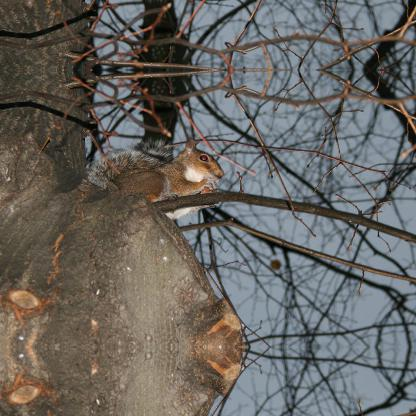Squirrel: (84, 134, 226, 219)
